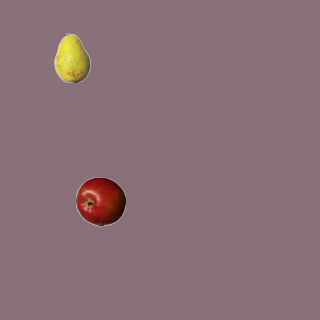Apple Braeburn: (75, 176, 125, 226)
Pear Monster: (47, 32, 97, 82)
